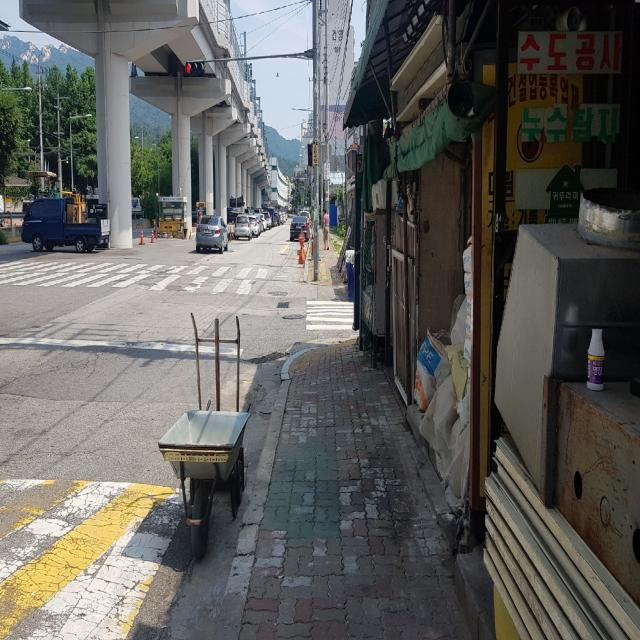횡단보도: (0, 254, 289, 297), (305, 300, 354, 331)
